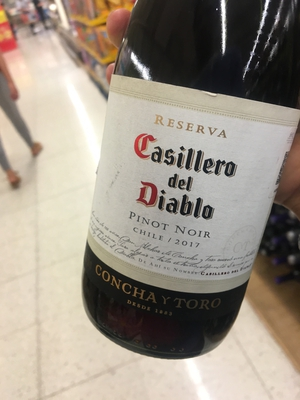casillero del diablo pinot noir: (77, 7, 294, 346)
